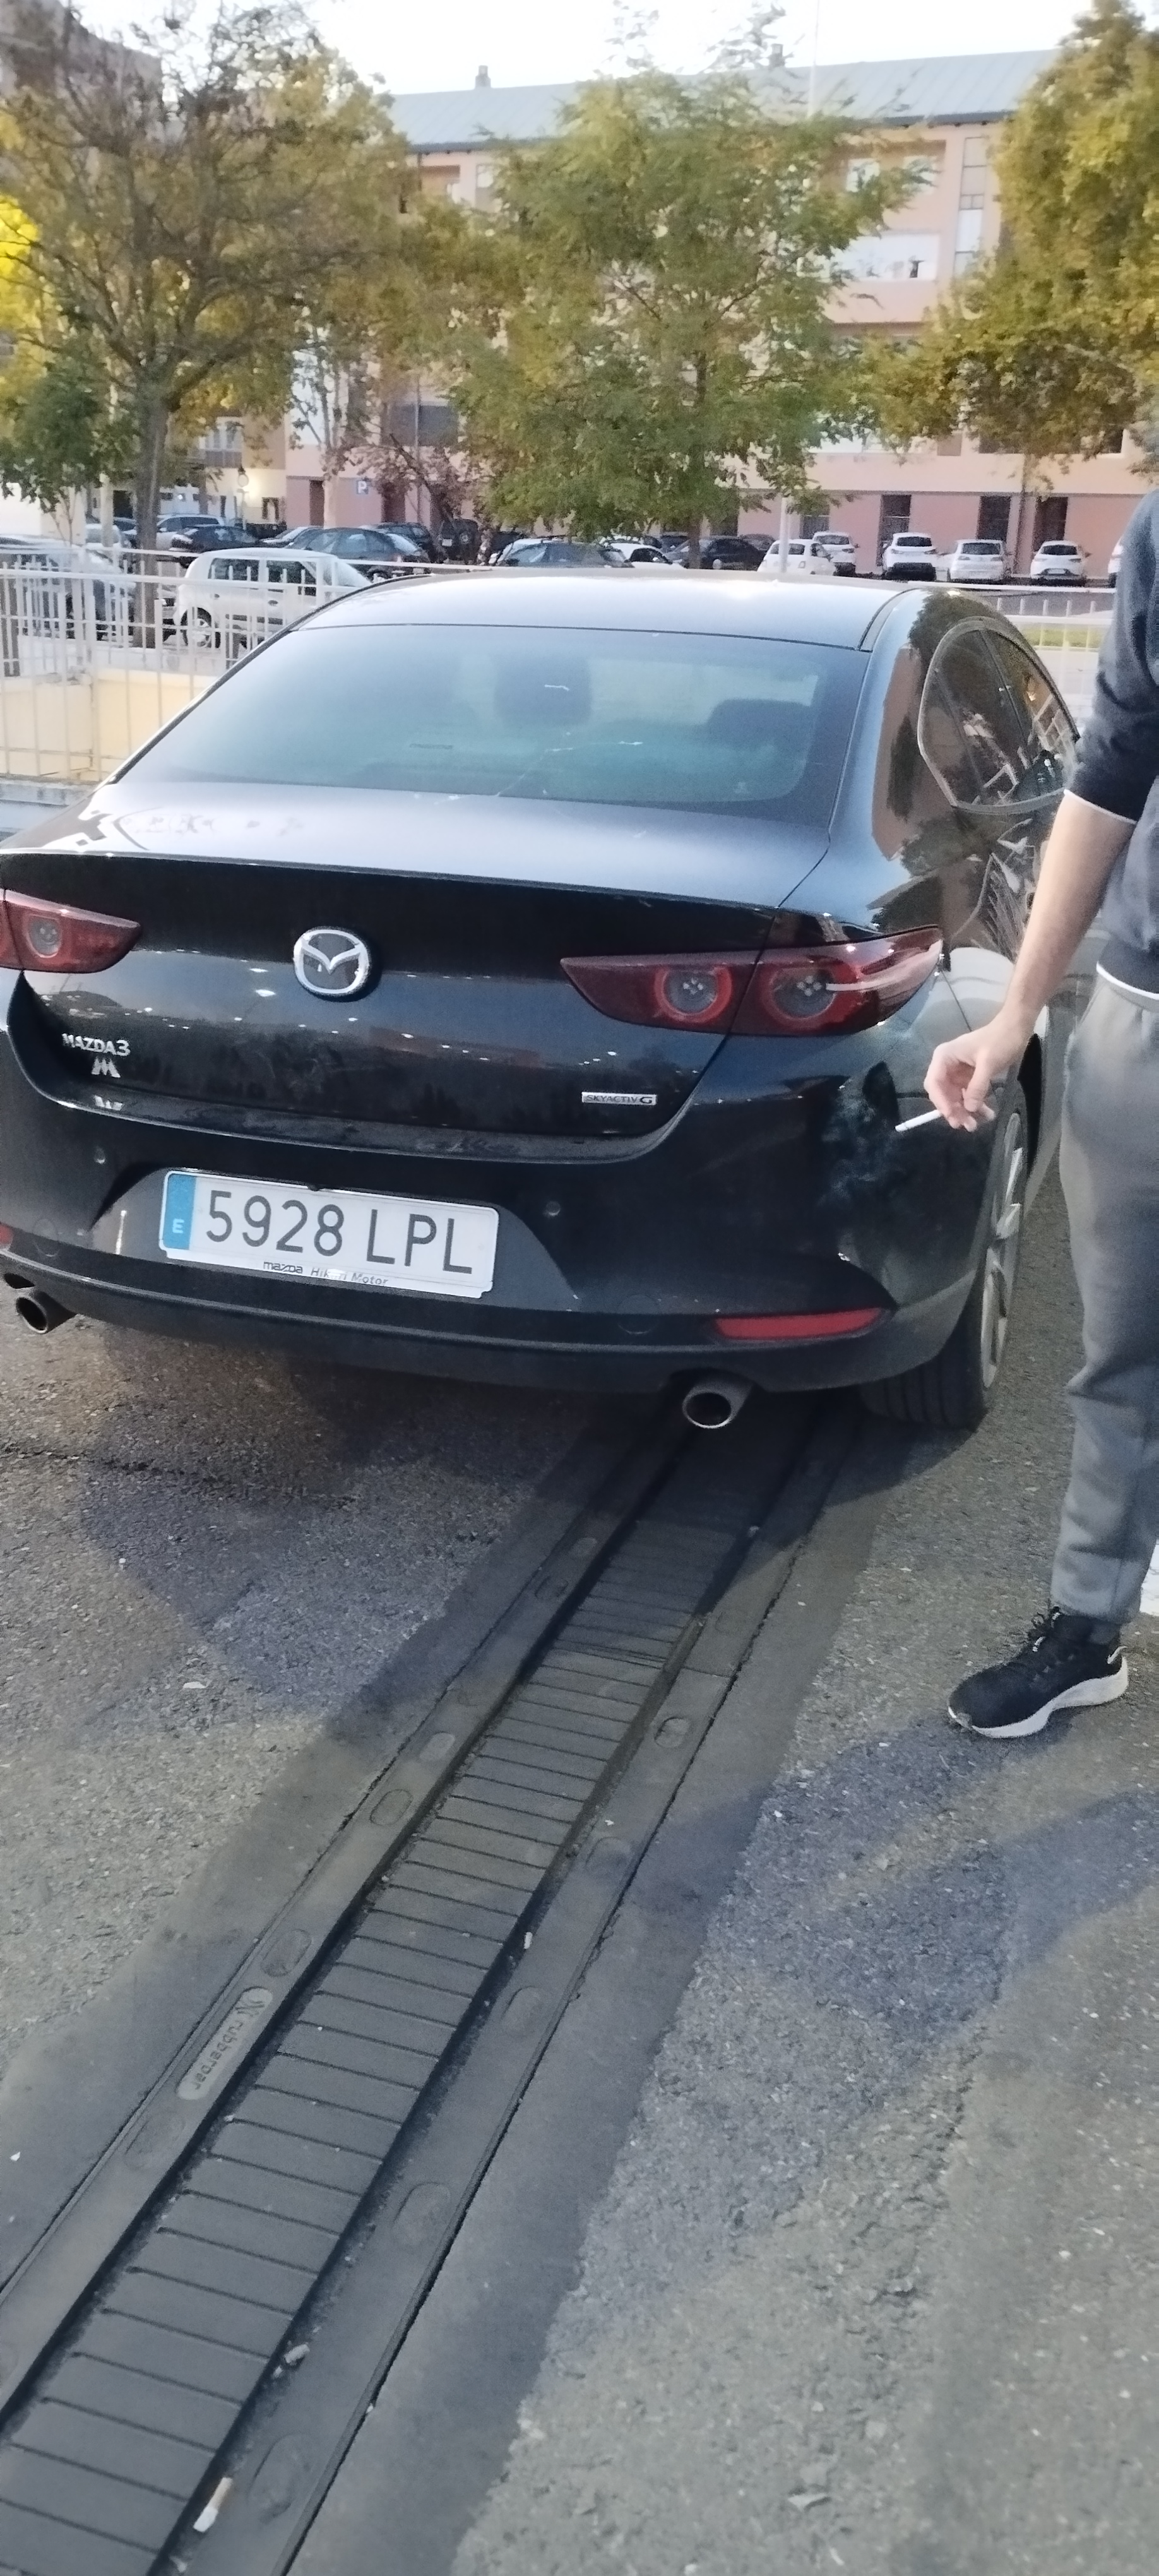Car: (3, 565, 1062, 1428)
Plate: (158, 1164, 496, 1262)
